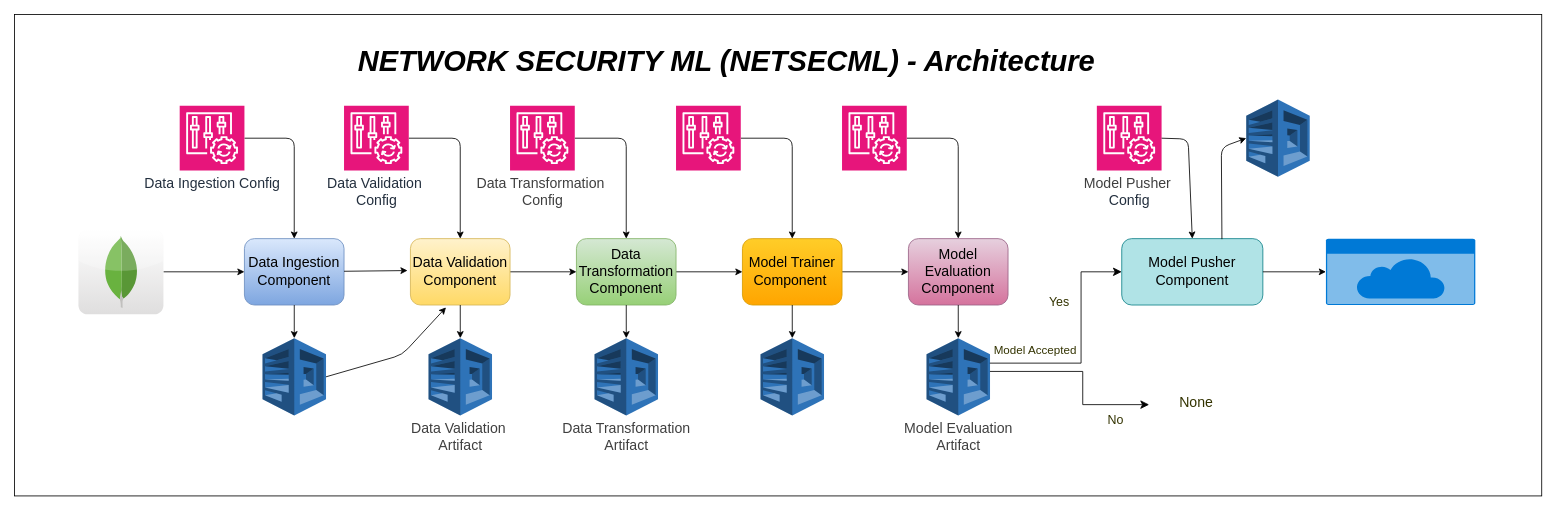
The diagram is 1556 pixels wide and 510 high, and some of its shapes have lost their labels. Each missing label, with the box of its shape:
Cloud: (1326, 238, 1475, 305)
Data Ingestion Artifact: (262, 337, 326, 415)
Model Evaluation Config: (841, 105, 907, 171)
Model Pusher Artifact: (1245, 99, 1310, 177)
Model Trainer Artifact: (760, 337, 824, 415)
Model Trainer Config: (675, 105, 741, 171)
